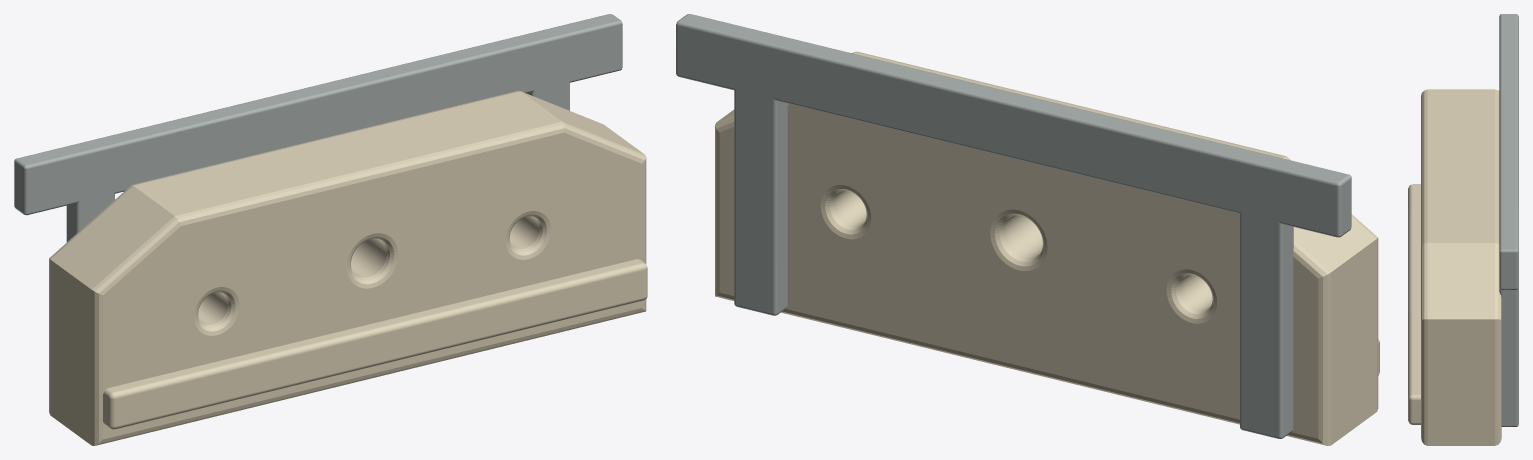
The model's file is indoor-climbing-and-bouldering-gym-indoor-climbing-and-0ed16d6e__31548.glb.
The picture shows the model from 3 angles, left to right: view 1: azimuth 30°, elevation 25°; view 2: azimuth 150°, elevation 25°; view 3: azimuth 270°, elevation 25°; orthographic projection. The views are drawn at different scales.
Visible parts, largest first — view 1: indoor-climbing-and-bouldering-gym-finger-training-hangboard (×2); view 2: indoor-climbing-and-bouldering-gym-finger-training-hangboard (×2); view 3: indoor-climbing-and-bouldering-gym-finger-training-hangboard (×2).
Boxes of the visible parts, box(x1,y1,x2,y2) form: indoor-climbing-and-bouldering-gym-finger-training-hangboard (×2): box(14, 14, 647, 445); indoor-climbing-and-bouldering-gym-finger-training-hangboard (×2): box(676, 14, 1379, 445); indoor-climbing-and-bouldering-gym-finger-training-hangboard (×2): box(1408, 14, 1518, 445).
Size of the model in its own units: 1 by 0.402 by 0.1975.
